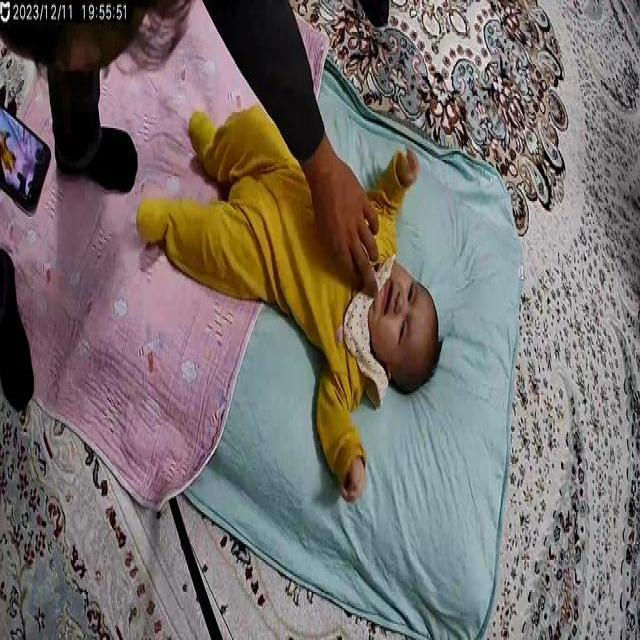baby: (135, 106, 443, 500)
